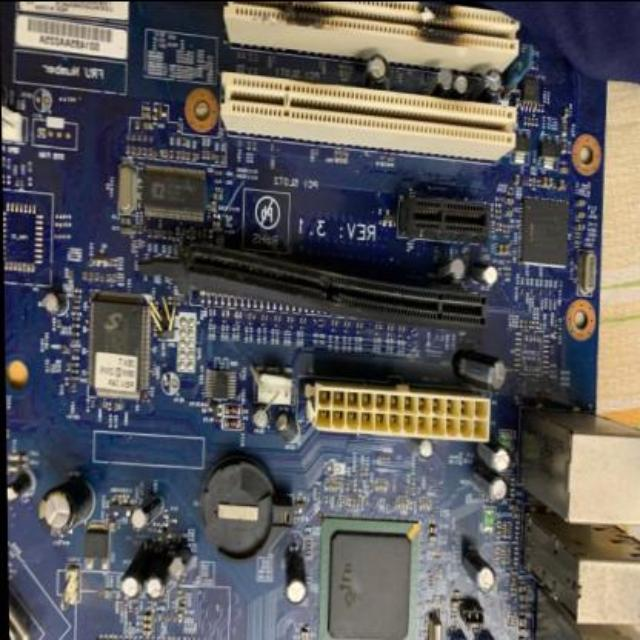PCB: (8, 0, 640, 640)
